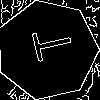T: (22, 25, 75, 65)
